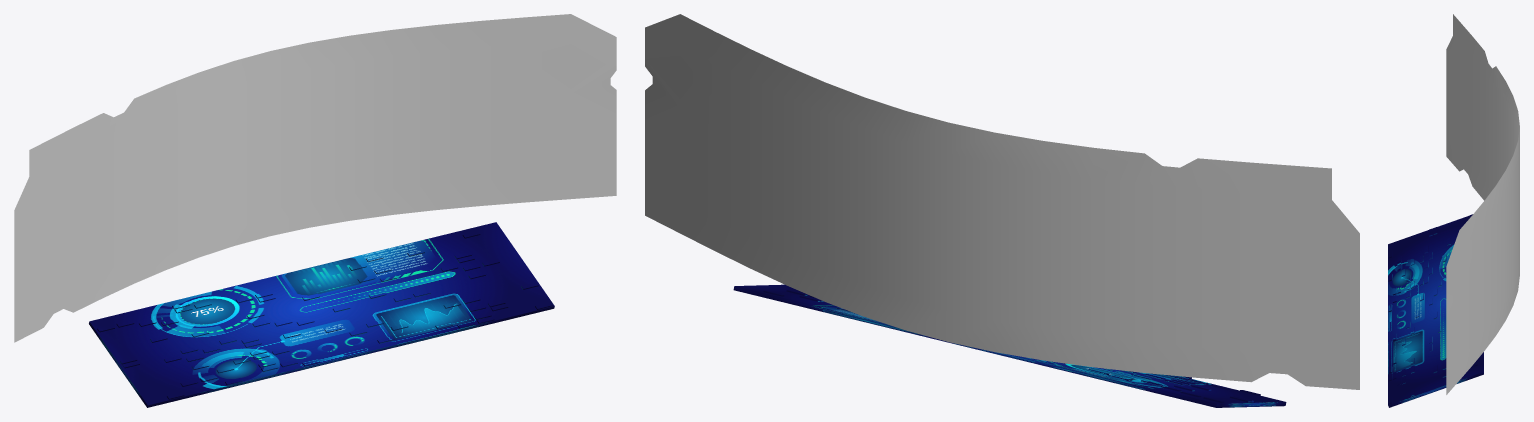
Rendered from web.glb.
3 views of the same model, side by side, from view 1: azimuth 30°, elevation 25°; view 2: azimuth 150°, elevation 25°; view 3: azimuth 270°, elevation 25° (orthographic). The views are drawn at different scales.
Visible parts, largest first — view 1: Cube.001, Cube; view 2: Cube.001, Cube; view 3: Cube.001, Cube.
Boxes of the visible parts, x1,y1,x2,y2 form: Cube.001: (14, 14, 616, 342); Cube: (89, 222, 554, 407); Cube.001: (645, 14, 1359, 389); Cube: (733, 284, 1286, 407); Cube.001: (1446, 14, 1519, 394); Cube: (1388, 214, 1483, 407).
Bounding box in the file's own units: 6.81 × 2.68 × 1.59.
2 materials, 1 textured.
